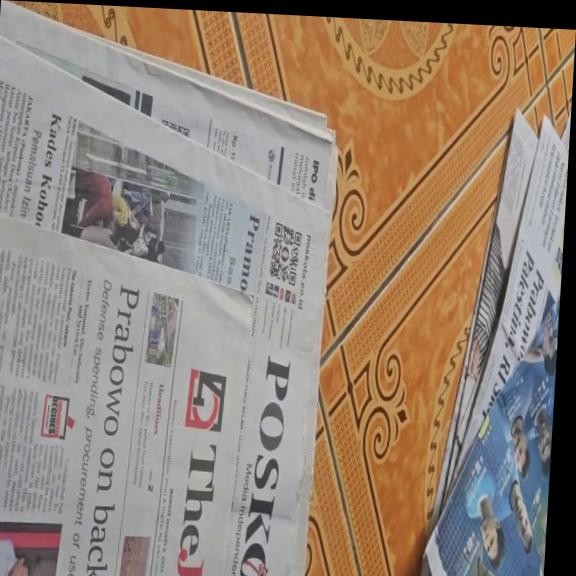Kertas: (0, 100, 329, 576), (421, 110, 568, 575)
